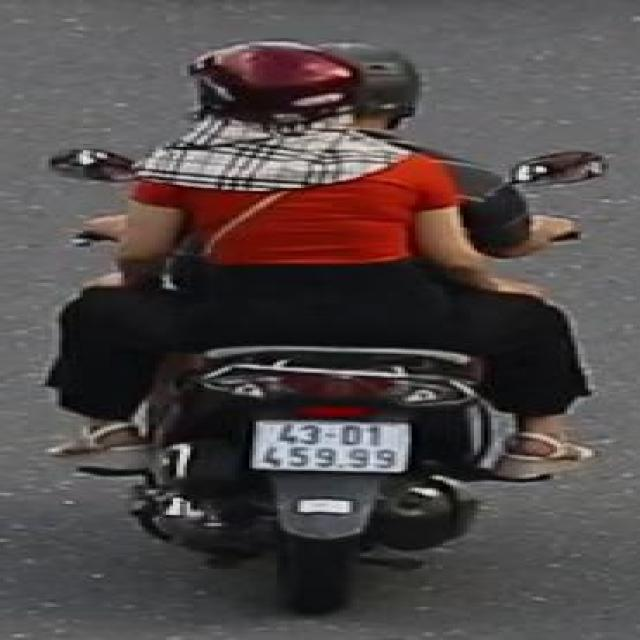LP: (248, 413, 420, 475)
helmet: (183, 36, 367, 142), (324, 27, 434, 122)
